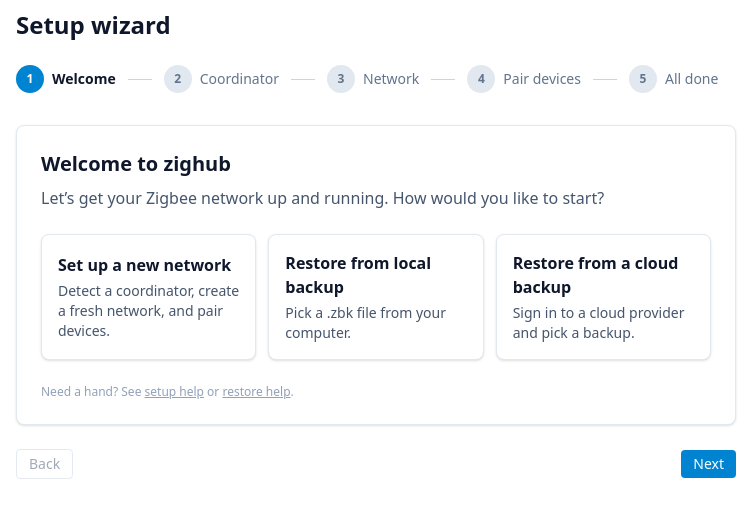
Test: WizardShell › advances when 'Set up a new network' is clicked
Click the button "Set up a new network": (149, 297) x1=41 y1=234 x2=256 y2=360
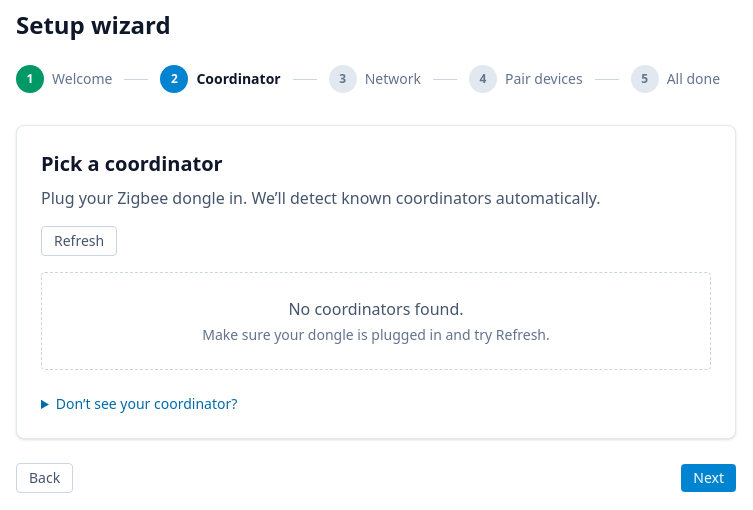
Check: the heading "Pick a coordinator" is shown, box x1=41 y1=150 x2=223 y2=177
